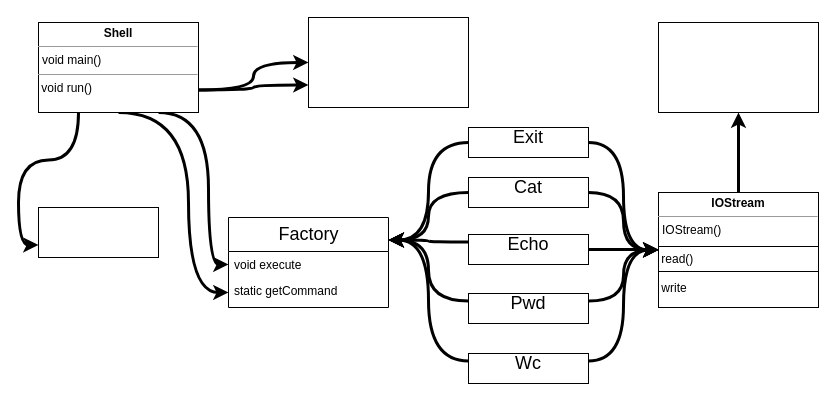
Image size: 836x401. Some labels were removed from this diagram. The centre of each missing label's shape, as x and y in pixels:
Exception FileIsDirectoryException() FileNotFoundException(): the point at 738,67
Parser void parse() getCommands() getParams(): the point at 388,62
Preprocessor String preprocess: the point at 98,232
